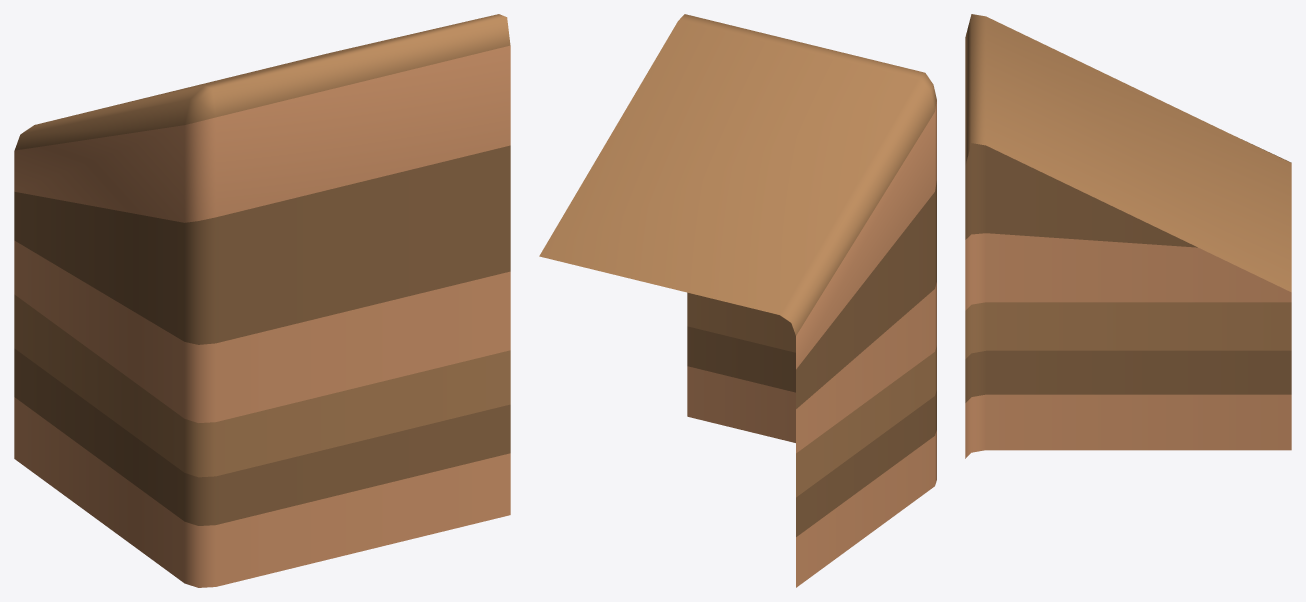
The model's file is Cube_Dirt_Corner_Tall_Slope02.glb.
The picture shows the model from 3 angles, left to right: view 1: azimuth 30°, elevation 25°; view 2: azimuth 150°, elevation 25°; view 3: azimuth 270°, elevation 25°; orthographic projection. The views are drawn at different scales.
Parts seen in each view (by area): view 1: Cube_Dirt_Corner_Tall; view 2: Cube_Dirt_Corner_Tall; view 3: Cube_Dirt_Corner_Tall.
Boxes of the visible parts, x1,y1,x2,y2 form: Cube_Dirt_Corner_Tall: (14,14,510,587); Cube_Dirt_Corner_Tall: (539,14,936,587); Cube_Dirt_Corner_Tall: (965,14,1291,458).
Bounding box in the file's own units: 2 × 3.01 × 2.
